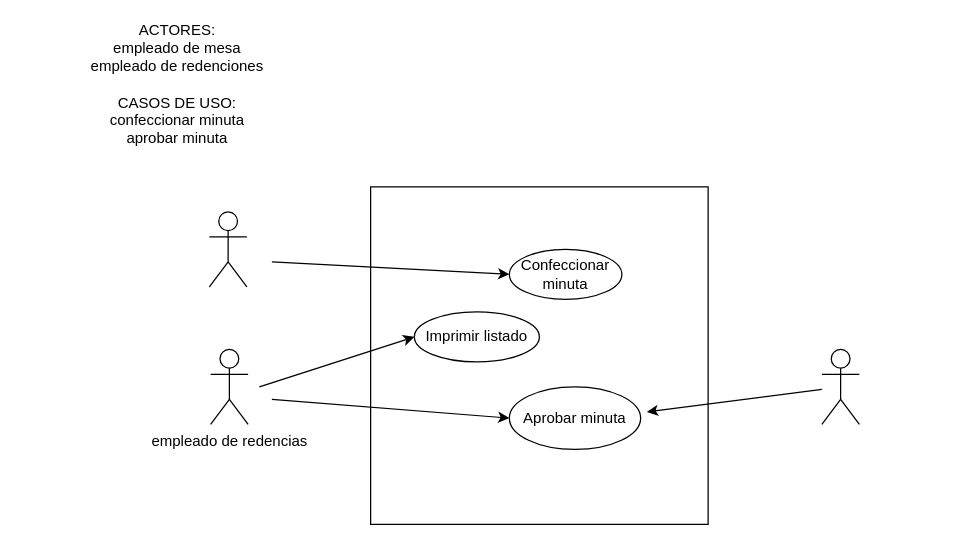
Some shapes in this 960 by 546 pixel diagram are drawn without their labels. The box of each missing label's shape, as (x1, y1, x2, y2) in pixels:
empleado de mesa: (208, 211, 247, 287)
Servicio de aplicaciones AFIP: (821, 348, 859, 424)
